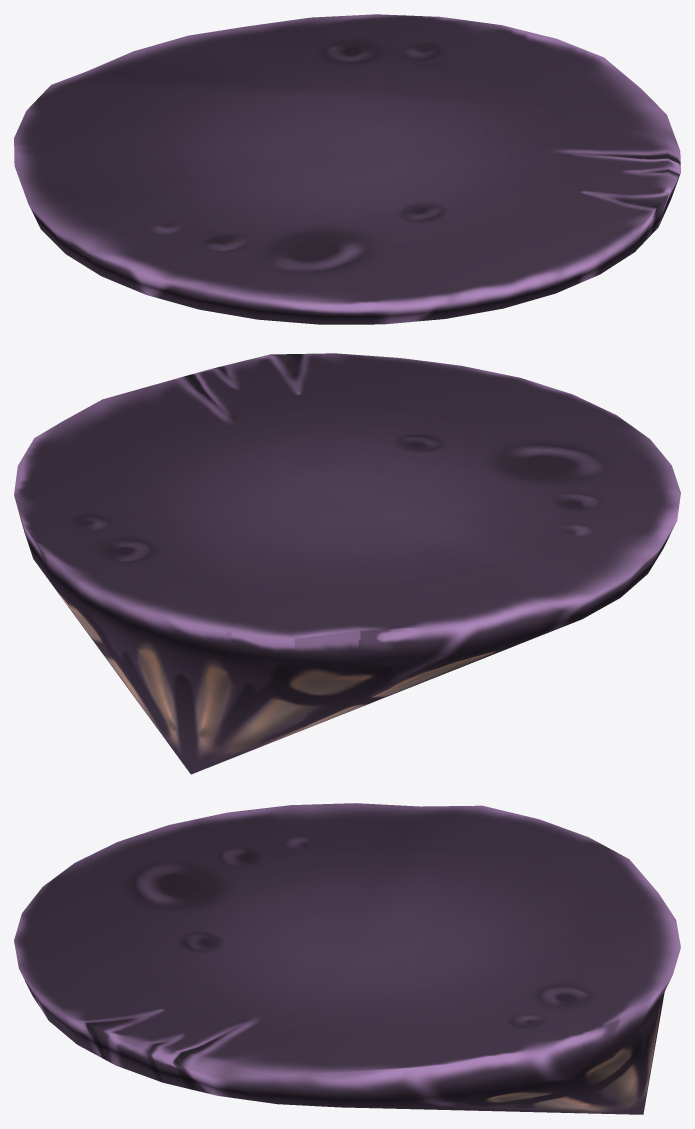
Rendered from Moshroom.fbx.
The picture shows the model from 3 angles, top to bottom: view 1: azimuth 30°, elevation 25°; view 2: azimuth 150°, elevation 25°; view 3: azimuth 270°, elevation 25°; orthographic projection.
Parts seen in each view (by area): view 1: Shroom; view 2: Shroom; view 3: Shroom.
Boxes of the visible parts, x1=… form: Shroom: x1=14, y1=14, x2=680, y2=324; Shroom: x1=14, y1=353, x2=680, y2=774; Shroom: x1=14, y1=803, x2=680, y2=1114.
Bounding box in the file's own units: 266 × 79.64 × 267.
